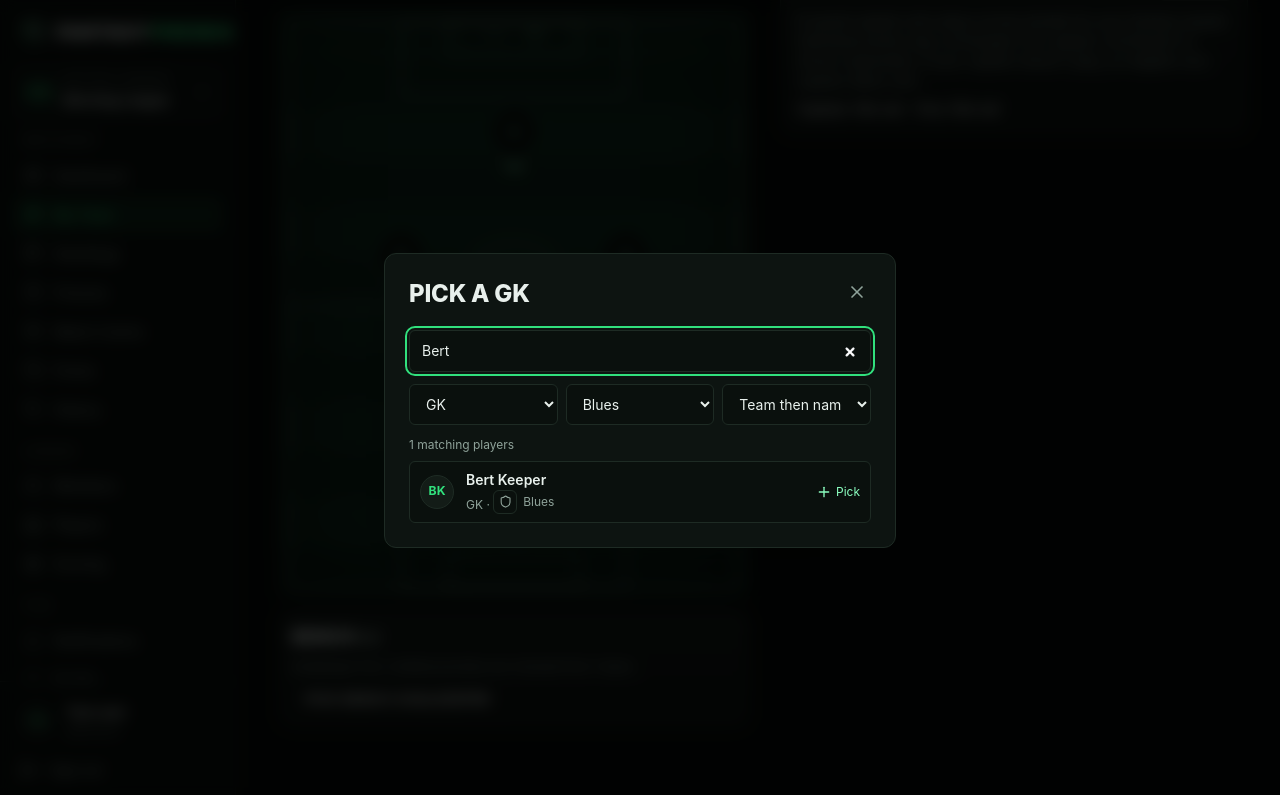
Scenario: squad screen HTTP contract › shows every empty spot, filters eligible players, and saves captaincy and bench on reload
Earlier steps of the test are not shown.
Later steps or results of the test are not shown.
(page scrolled)
Click the button "BK Bert Keeper GK · Blues Pick" at (437, 492), box [409,460,871,522]
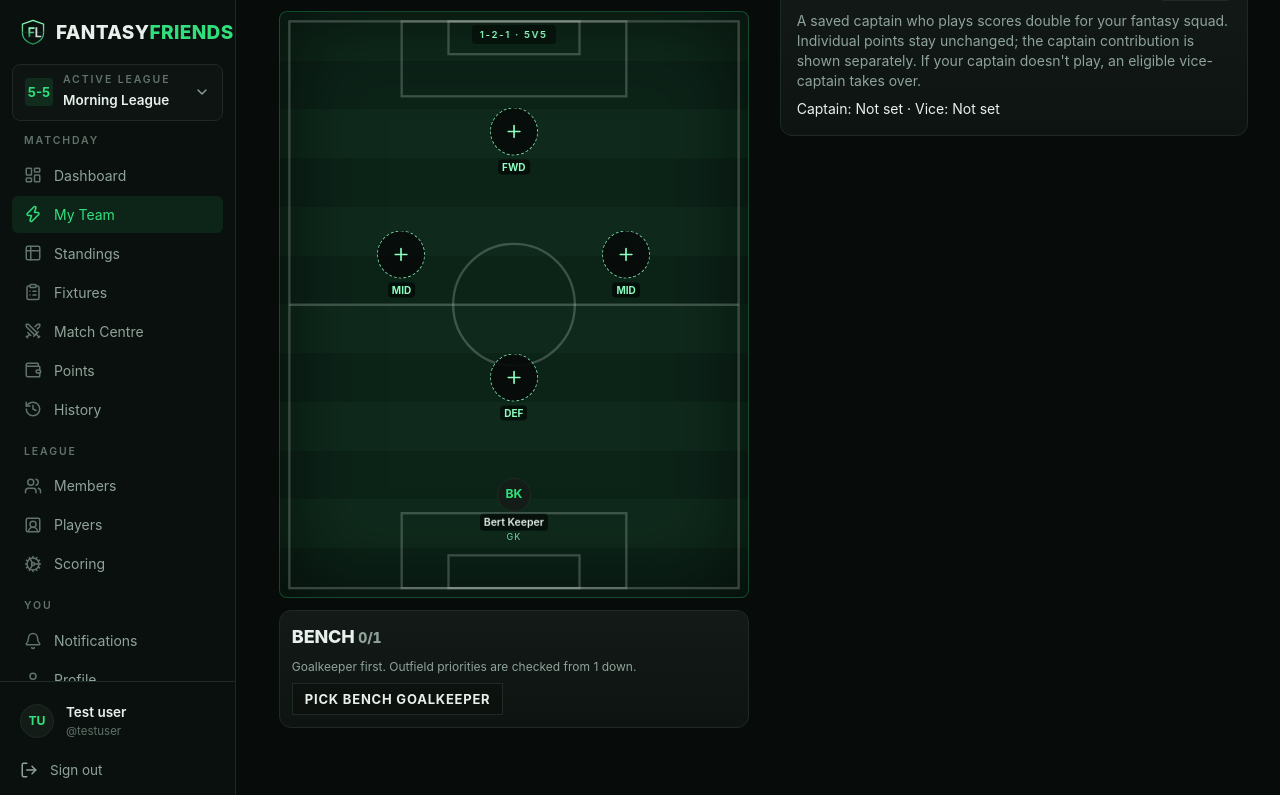
Click the button with aria-label "Bert Keeper, GK" at (514, 510), box [294,477,734,542]
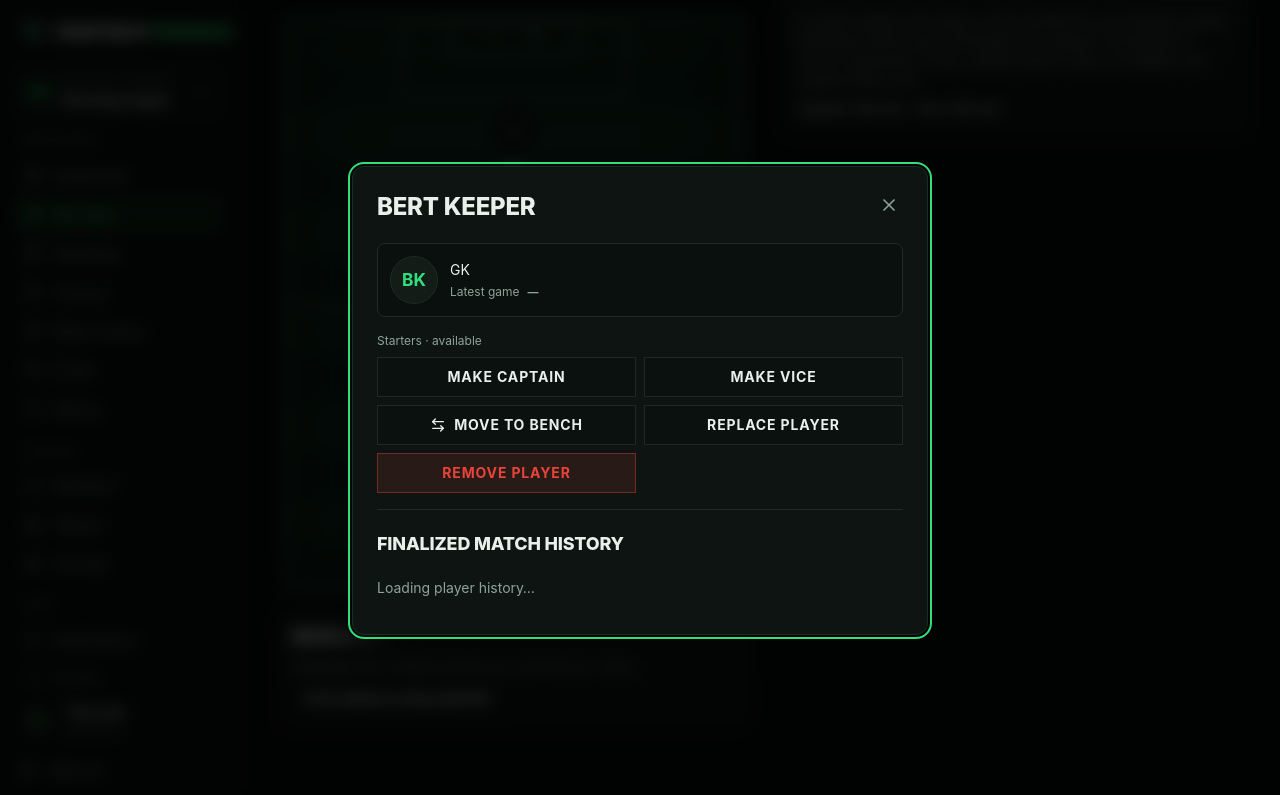
Click the button "Make captain" at (506, 376), box [377,356,636,396]
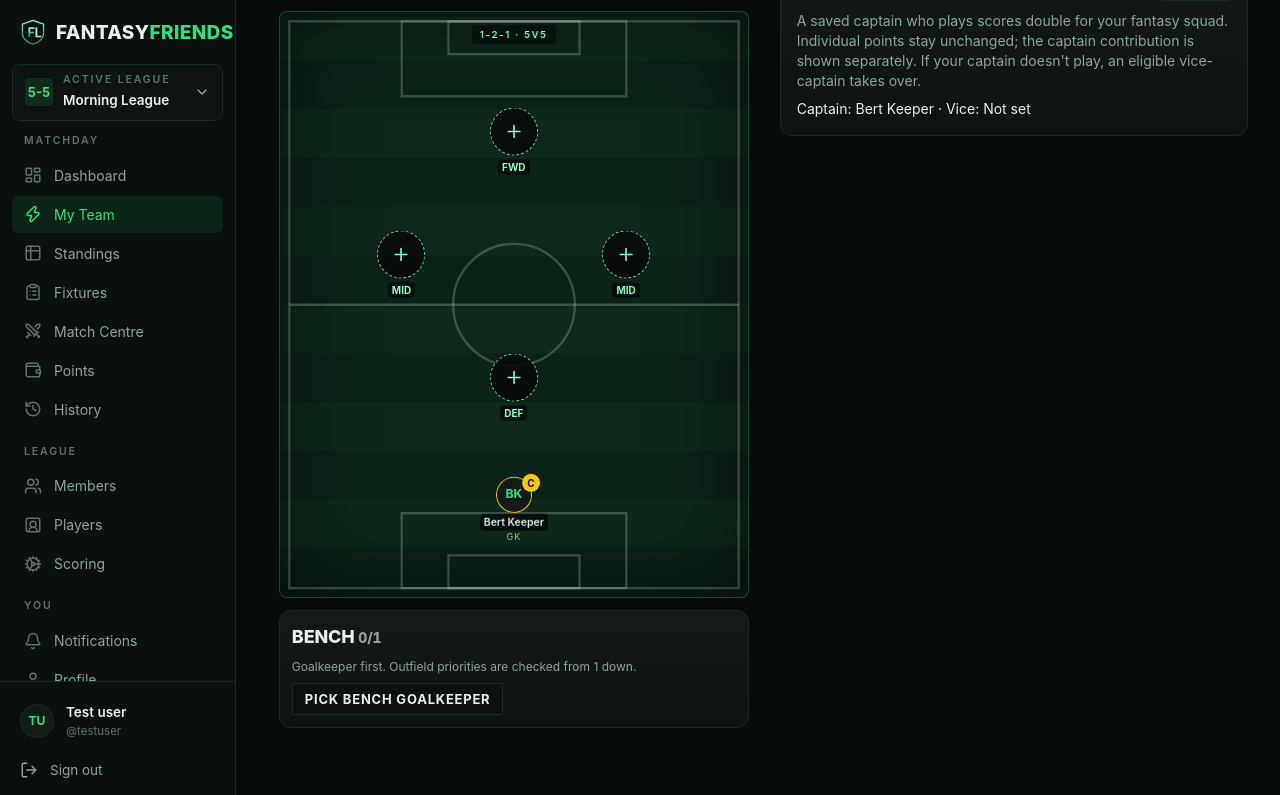
Click the button "Pick bench goalkeeper" at (398, 699), box [292,683,503,715]
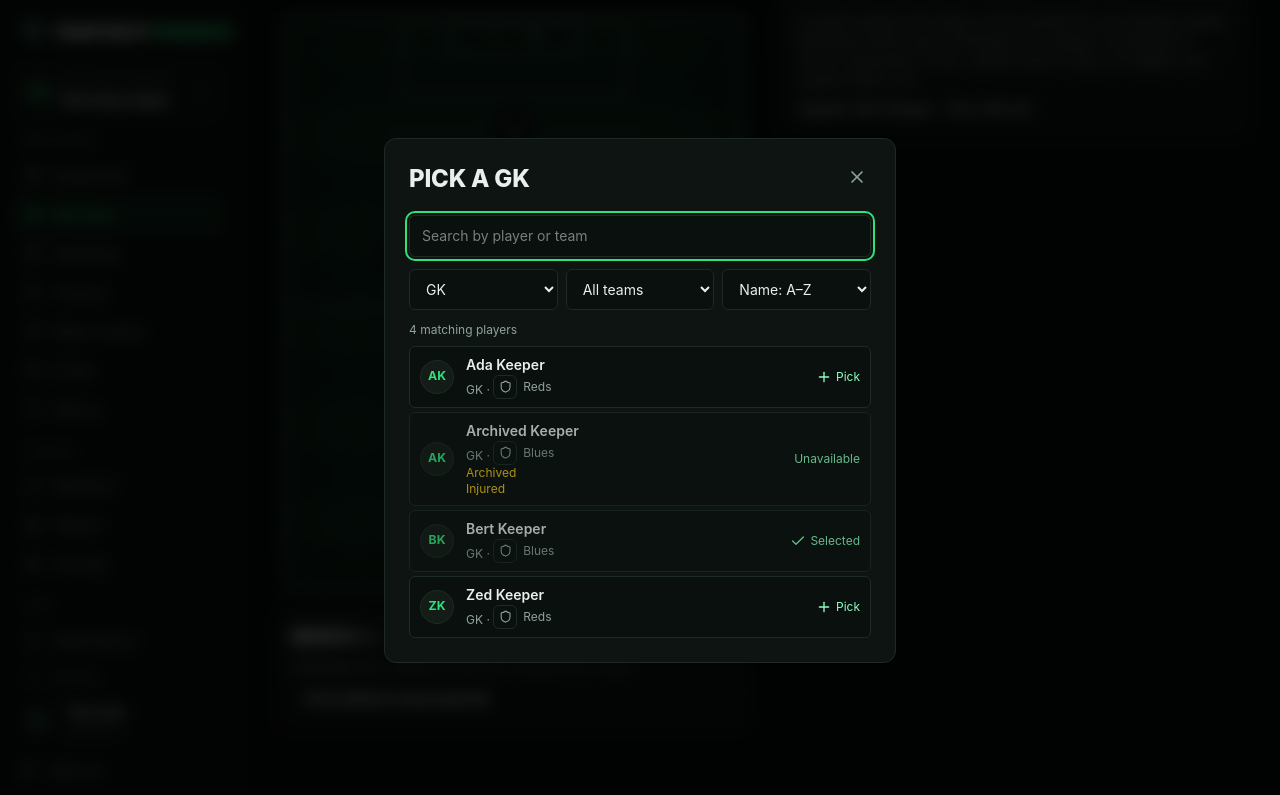
Expected: the button "BK Bert Keeper GK · Blues Selected" is disabled, [409,510,871,572]
Click the button "Zed Keeper" at (437, 606), box [409,576,871,638]
(page scrolled)
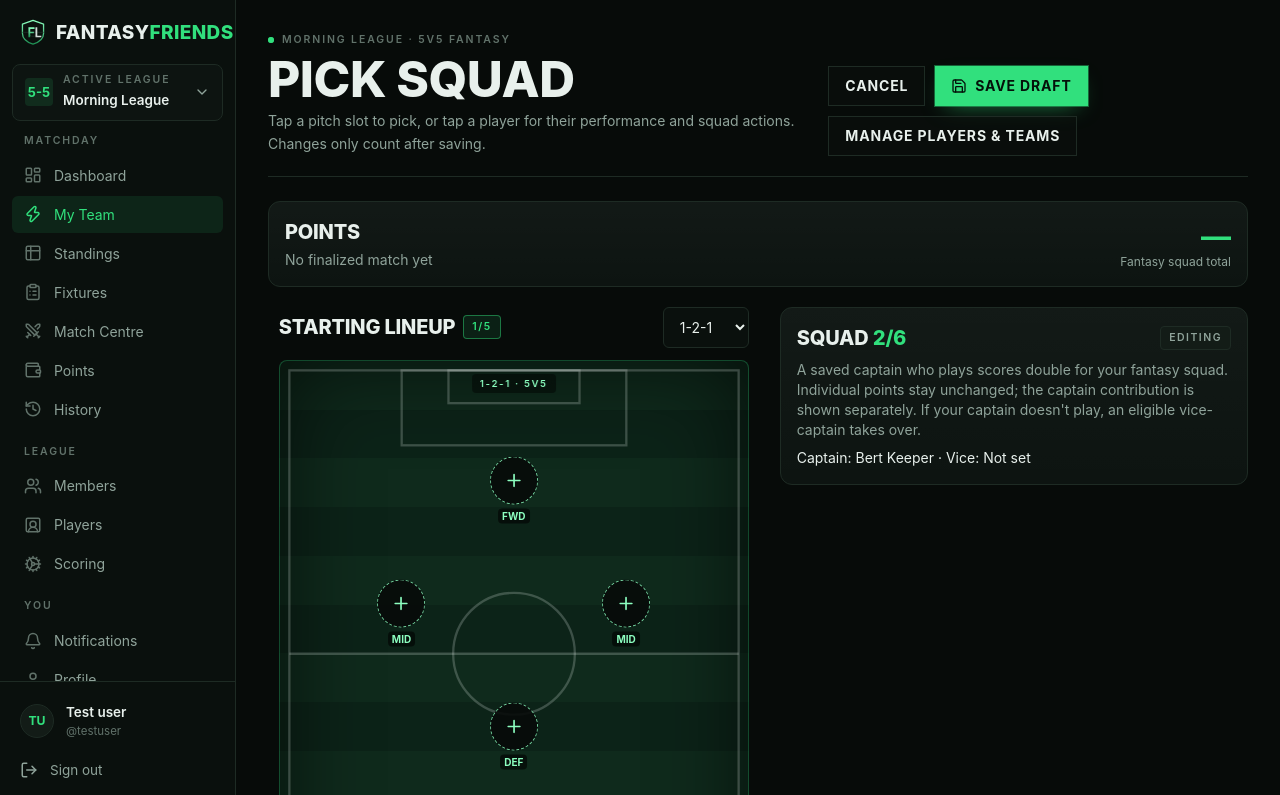
Click the button "Save draft" at (1011, 86), box [935,66,1088,106]
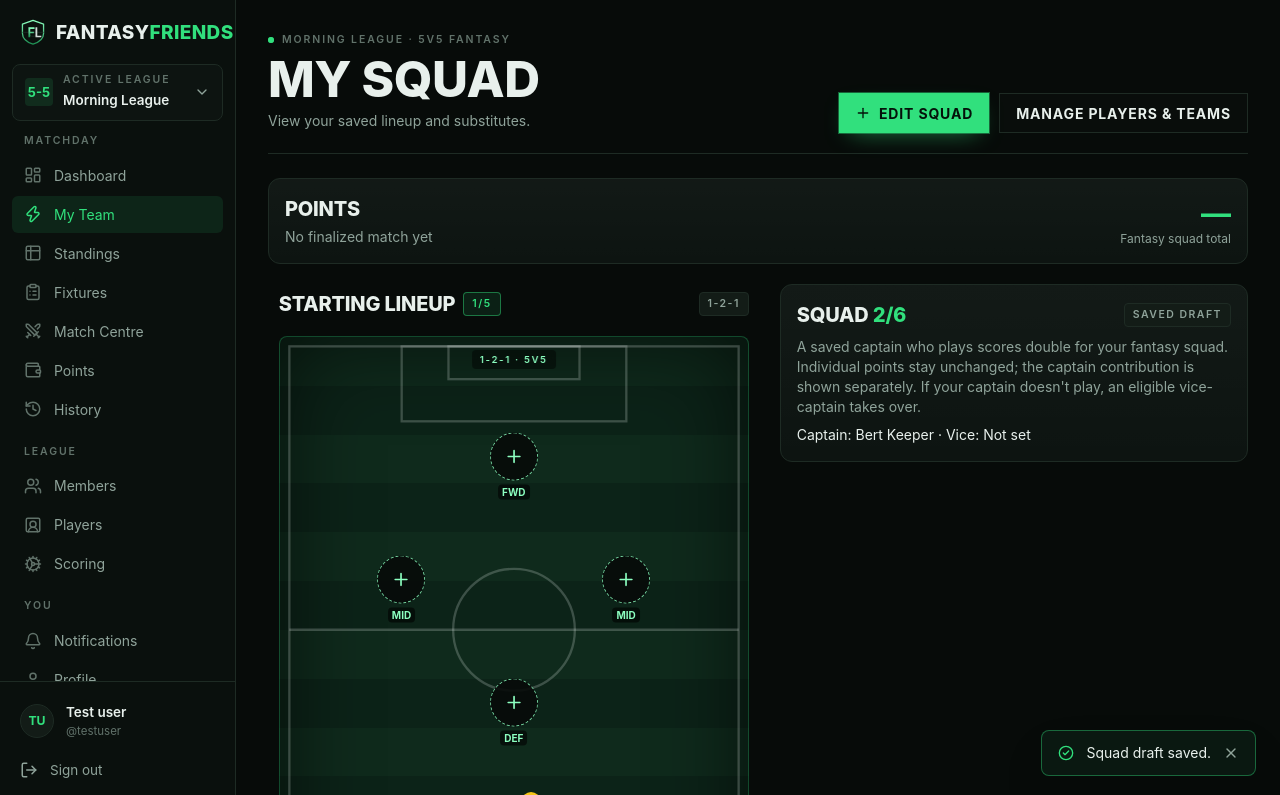
Expected: the text "Squad draft saved." is shown, [1086,743,1211,763]
